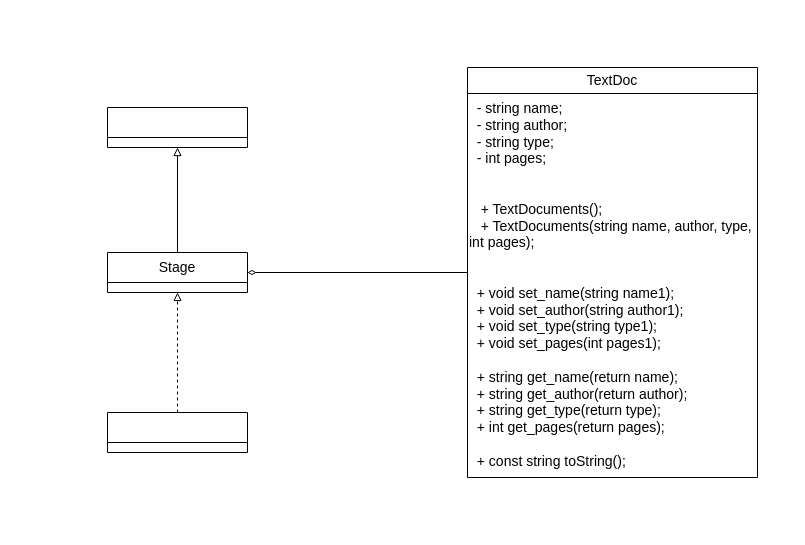
Image size: 805x545. Some labels were removed from this diagram. Here are the shapes that lost their labels. From the top down, the centre of each, then its label:
At [177,127]: "Window".
At [177,432]: "Application".
